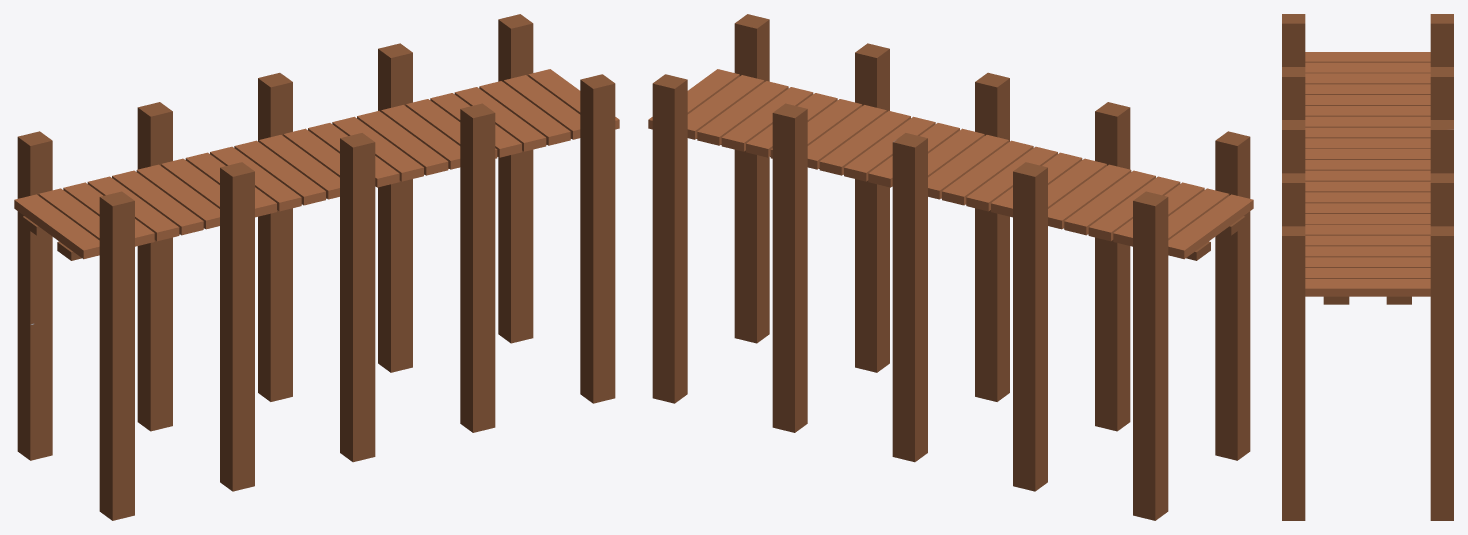
The model's file is Bridge.fbx.
3 renders of one model, left to right at view 1: azimuth 30°, elevation 25°; view 2: azimuth 150°, elevation 25°; view 3: azimuth 270°, elevation 25°, orthographic. The views are drawn at different scales.
Parts seen in each view (by area): view 1: Cube.002; view 2: Cube.002; view 3: Cube.002.
Boxes of the visible parts, x1,y1,x2,y2 form: Cube.002: (14,14,619,520); Cube.002: (648,14,1253,520); Cube.002: (1282,14,1453,520).
Size of the model in its own units: 896 by 501 by 274.
